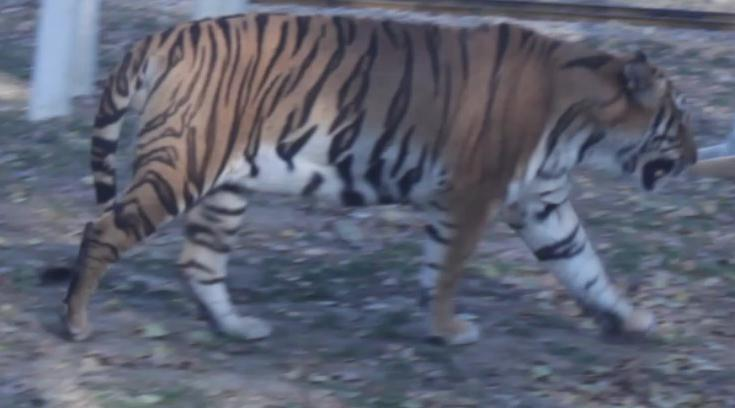tiger: (66, 12, 695, 343)
